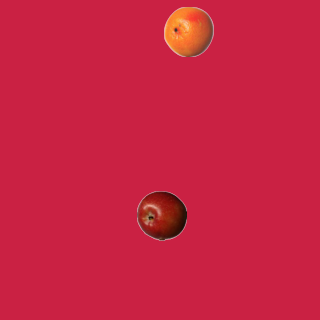Apple Braeburn: (136, 190, 186, 240)
Grapefruit Pink: (163, 6, 213, 56)
